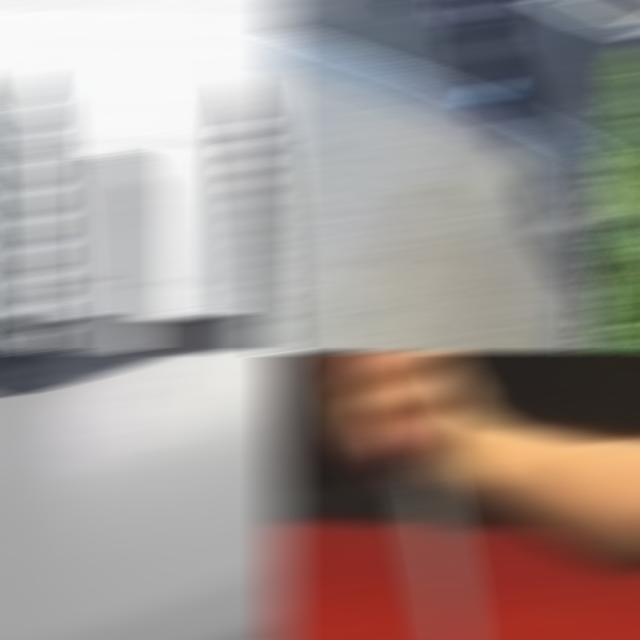Knife: (218, 81, 284, 351), (4, 76, 68, 351), (386, 450, 473, 639), (85, 154, 153, 351)
Knife_Handle: (328, 353, 478, 639)
